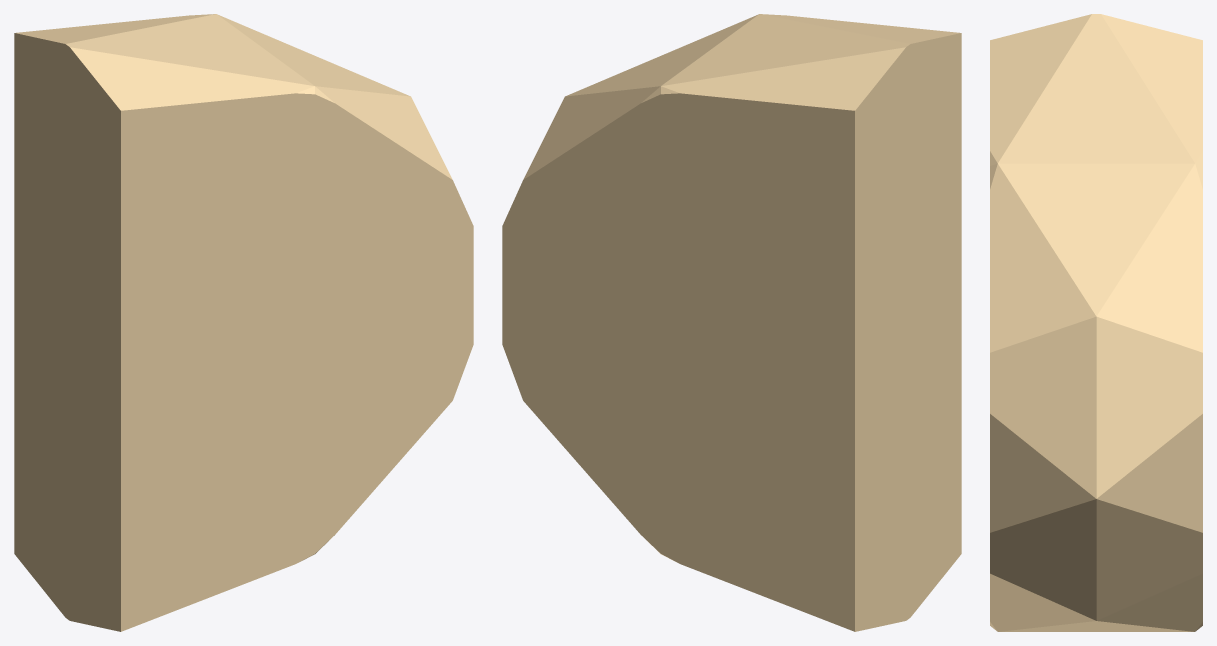
File: nil_link_mesh.dae
3 views of the same model, side by side, from view 1: azimuth 30°, elevation 25°; view 2: azimuth 150°, elevation 25°; view 3: azimuth 270°, elevation 25° (orthographic).
Visible parts, largest first — view 1: nil_link; view 2: nil_link; view 3: nil_link.
Boxes of the visible parts, x1,y1,x2,y2 form: nil_link: (14,14,473,631); nil_link: (502,14,961,631); nil_link: (990,14,1202,631).
Size of the model in its own units: 0.044 by 0.0595 by 0.02.
